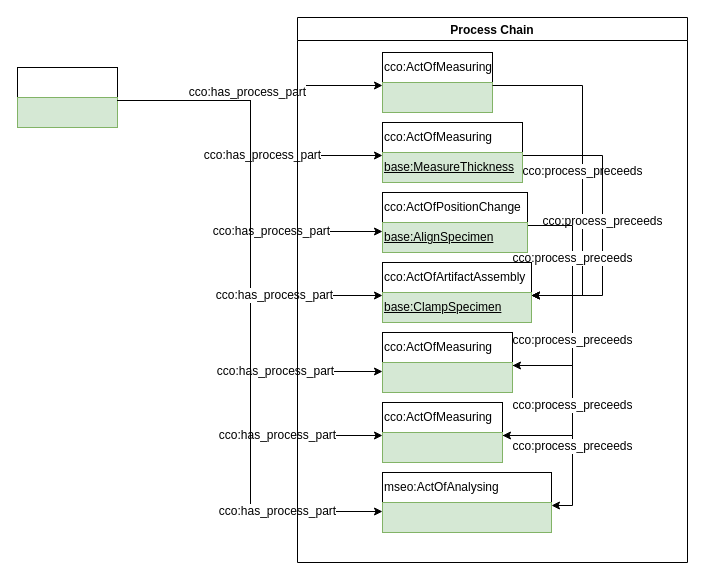
Some shapes in this 705 by 580 pixel diagram are drawn without their labels. Each missing label, with the centre of its shape:
"base:ActOfElongation" goes at pixel 442 447.
"base:GetCharacteristicValues" goes at pixel 467 517.
"base:MeasureLenght" goes at pixel 447 377.
"base:MeasureWidth" goes at pixel 437 97.
"base:TensionTest" goes at pixel 67 112.
"mseo:Experiment" goes at pixel 67 82.
